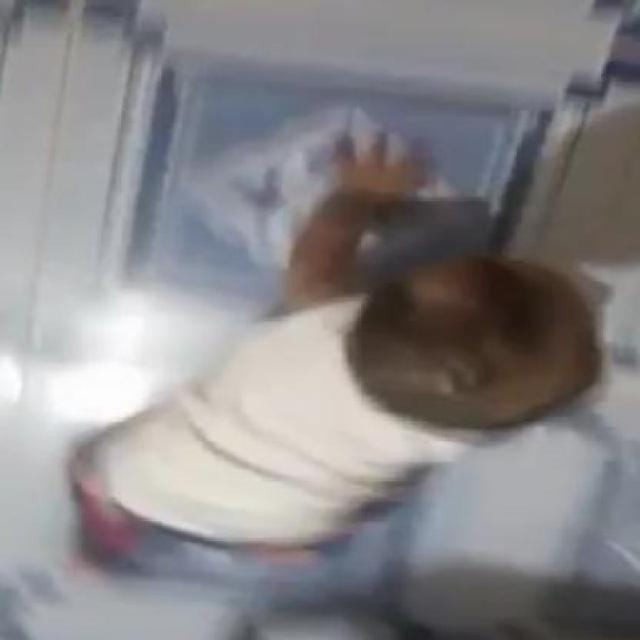baby: (69, 126, 602, 566)
